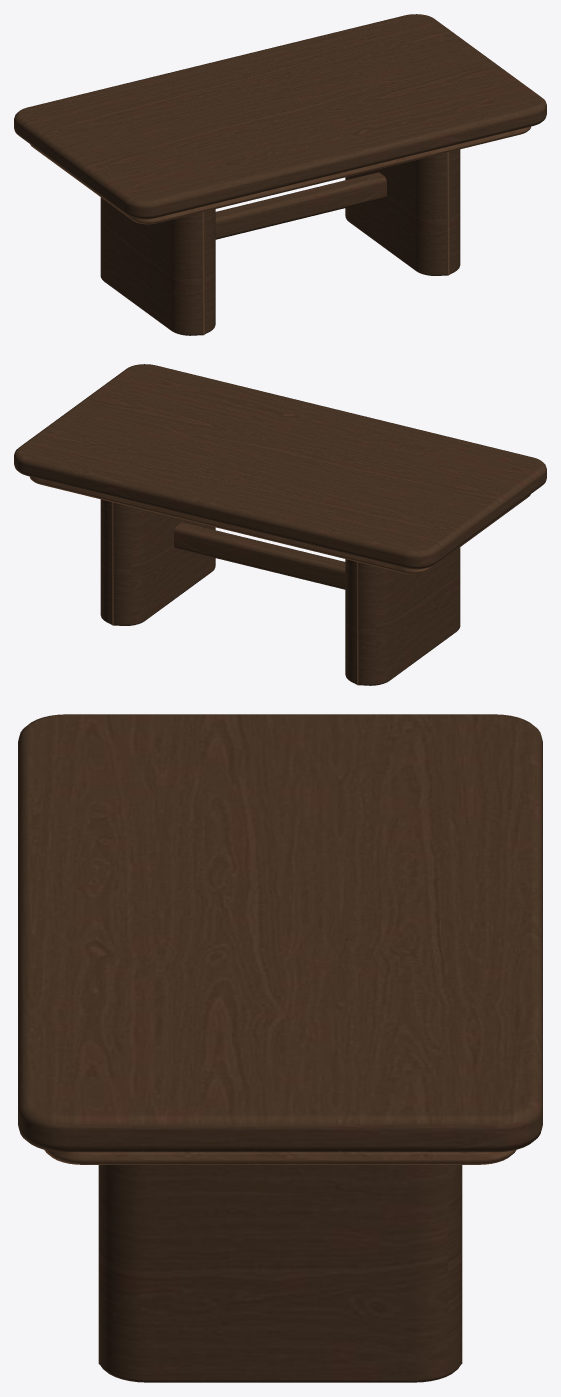
The model's file is still-center-table.glb.
3 renders of one model, top to bottom at view 1: azimuth 30°, elevation 25°; view 2: azimuth 150°, elevation 25°; view 3: azimuth 270°, elevation 25°, orthographic. The views are drawn at different scales.
Parts seen in each view (by area): view 1: top, slab-1, slab1, bar, edge; view 2: top, slab-1, slab1, bar, edge; view 3: top, slab1, edge.
Part boxes in pixels (x1,y1,x2,y2): top: (14, 14, 546, 219); slab-1: (100, 197, 215, 335); slab1: (345, 149, 460, 275); bar: (215, 172, 386, 239); edge: (30, 126, 530, 224); top: (14, 364, 546, 569); slab-1: (345, 547, 460, 685); slab1: (100, 499, 215, 625); bar: (174, 522, 345, 589); edge: (30, 476, 530, 574); top: (18, 714, 542, 1152); slab1: (98, 1165, 462, 1382); edge: (44, 1150, 516, 1164).
Size of the model in its own units: 1.2 by 0.45 by 0.65.
Materials: 2 (2 with a texture image).
